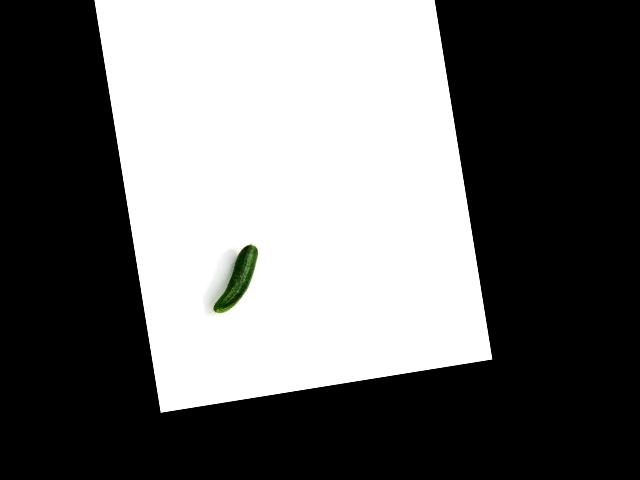cucumber: (203, 243, 266, 313)
